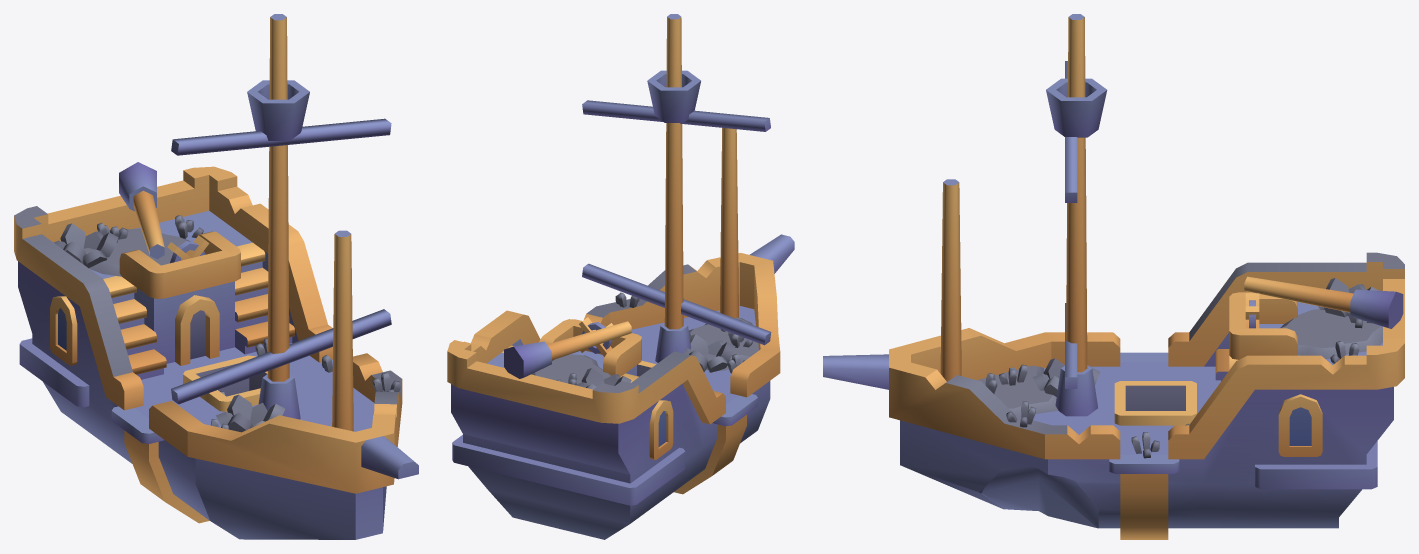
The model's file is ship-wreck.fbx.
3 views of the same model, side by side, from view 1: azimuth 30°, elevation 25°; view 2: azimuth 150°, elevation 25°; view 3: azimuth 270°, elevation 25° (orthographic). The views are drawn at different scales.
Visible parts, largest first — view 1: ship-wreck, sail-a, Group_2, Group_3, Group_4, Group_1; view 2: ship-wreck, sail-a, Group_2, Group_4, Group_1, Group, Group_3; view 3: ship-wreck, Group_2, Group_4, Group, sail-a, Group_1.
Part boxes in pixels (x1,y1,x2,y2): ship-wreck: (14,14,418,539); sail-a: (171,118,391,404); Group_2: (119,162,164,259); Group_3: (54,223,118,268); Group_4: (83,228,190,276); Group_1: (216,394,284,432); ship-wreck: (447,14,794,539); sail-a: (582,100,771,345); Group_2: (504,321,631,378); Group_4: (531,354,611,384); Group_1: (684,334,735,372); Group: (689,317,758,370); Group_3: (576,368,631,389); ship-wreck: (823,14,1404,539); Group_2: (1244,276,1403,328); Group_4: (1280,309,1382,358); Group: (977,365,1058,416); sail-a: (1065,61,1077,388); Group_1: (1032,358,1100,396).
Size of the model in its own units: 480 by 996 by 1060.
